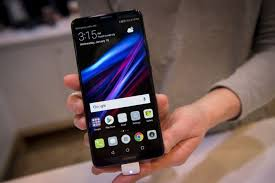huawei: (70, 10, 168, 170)
